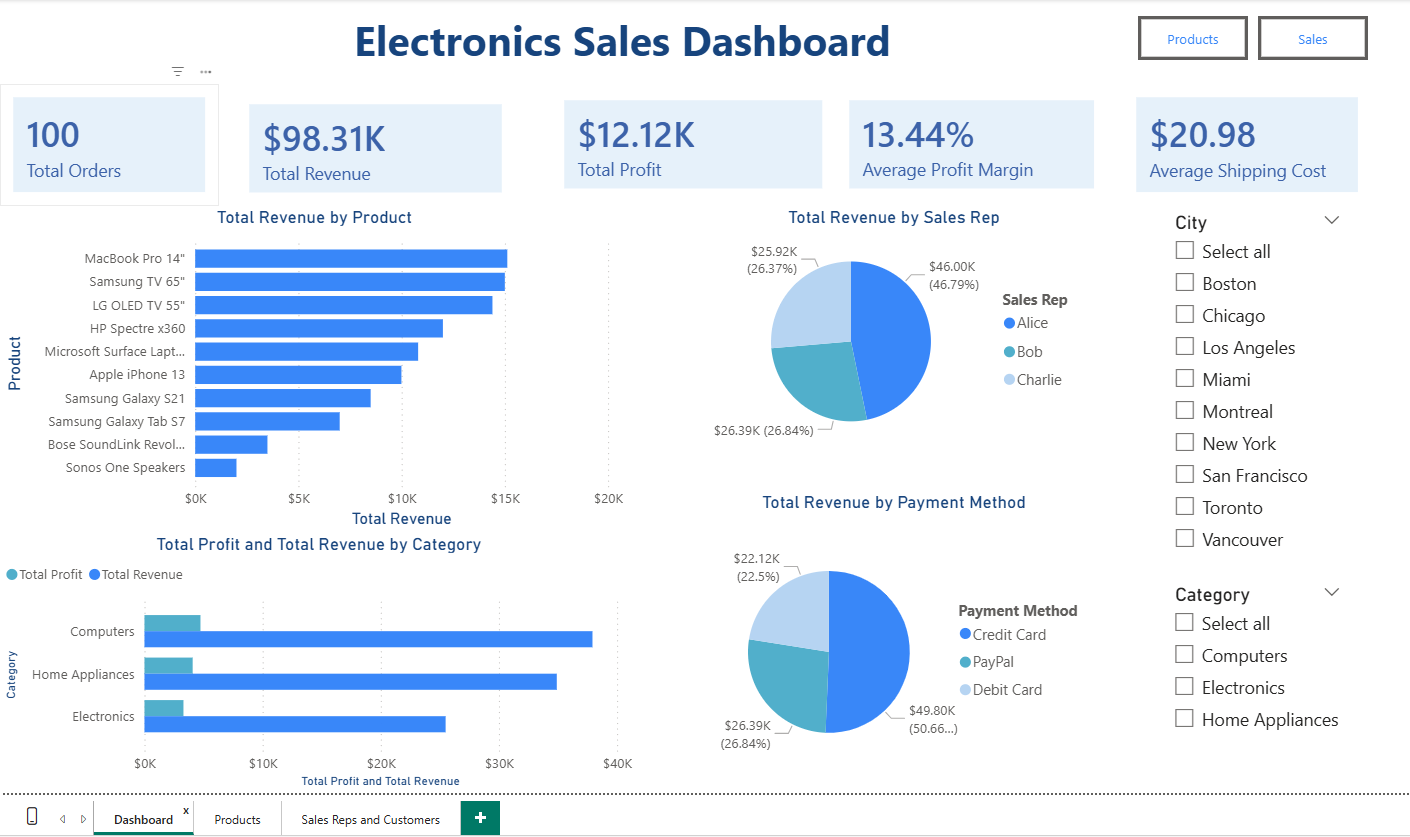

The dashboard page shown, as its layout file describes it:
{"tool":"powerbi","page":{"name":"Dashboard","canvas":[1280,720],"ordinal":0},"visuals":[{"type":"cardVisual","fields":{"Data":["Fact_Table.TotalRevenue_USD"]},"box":[214,83.4,253.9,104.3],"z":0},{"type":"cardVisual","fields":{"Data":["Fact_Table.Total Profit"]},"box":[499.6,79.8,258.4,104.3],"z":1000},{"type":"cardVisual","fields":{"Data":["Fact_Table.Average Profit Margin"]},"box":[758.1,79.8,246.6,104.3],"z":2000},{"type":"cardVisual","fields":{"Data":["Fact_Table.Total Orders"]},"box":[0,77.1,198.6,110.6],"z":3000},{"type":"cardVisual","fields":{"Data":["Fact_Table.Average Shipping Cost"]},"box":[1018.3,77.1,225.8,110.6],"z":4000},{"type":"barChart","fields":{"Category":["Products.ProductName"],"Y":["Sum(Fact_Table.SaleAmount_USD)"]},"box":[0,187.7,570.4,296.5],"z":5000},{"type":"pieChart","title":"Total Revenue by Sales Rep","fields":{"Y":["Sum(Fact_Table.SaleAmount_USD)"],"Category":["SalesReps.SalesRep"]},"box":[629.3,187.7,362.7,227.6],"z":6000},{"type":"slicer","fields":{"Values":["Cities.City"]},"box":[1052.8,187.7,175,320.1],"z":7000},{"type":"pieChart","title":"Total Revenue by Payment Method","fields":{"Y":["Sum(Fact_Table.SaleAmount_USD)"],"Category":["PaymentMethod.PaymentMethod"]},"box":[629.3,446.1,362.7,273.9],"z":8000},{"type":"textbox","box":[230.3,6.3,668.3,70.7],"z":9000},{"type":"slicer","fields":{"Values":["Products.Category"]},"box":[1052.8,525,175,156.9],"z":10000},{"type":"clusteredBarChart","title":"Total Profit and Total Revenue by Category","fields":{"Category":["Products.Category"],"Y":["Sum(Fact_Table.Profit_USD)","Sum(Fact_Table.SaleAmount_USD)"]},"box":[0,484.2,578.5,235.8],"z":11000},{"type":"actionButton","box":[1031.9,15.4,99.7,39.9],"z":12000},{"type":"actionButton","box":[1140.8,15.4,99.7,39.9],"z":13000}]}

Visuals, with their boxes on the page's 1280x720 design canvas (x1, y1, x2, y2). These are canvas units, not pixel positions in the 1410x837 screenshot, which may show the page scaled, cropped or inside an application window:
cardVisual - Fact_Table.TotalRevenue_USD: 214/83/468/188
cardVisual - Fact_Table.Total Profit: 500/80/758/184
cardVisual - Fact_Table.Average Profit Margin: 758/80/1005/184
cardVisual - Fact_Table.Total Orders: 0/77/199/188
cardVisual - Fact_Table.Average Shipping Cost: 1018/77/1244/188
barChart - Products.ProductName x Sum(Fact_Table.SaleAmount_USD): 0/188/570/484
"Total Revenue by Sales Rep" pieChart: 629/188/992/415
slicer - Cities.City: 1053/188/1228/508
"Total Revenue by Payment Method" pieChart: 629/446/992/720
textbox: 230/6/899/77
slicer - Products.Category: 1053/525/1228/682
"Total Profit and Total Revenue by Category" clusteredBarChart: 0/484/578/720
actionButton: 1032/15/1132/55
actionButton: 1141/15/1240/55
